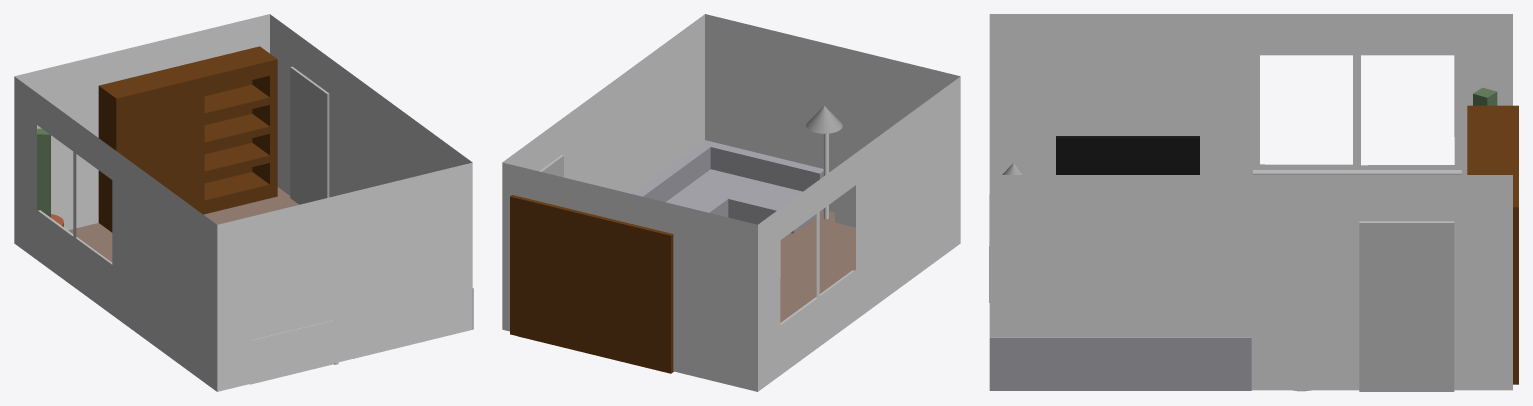
File: test_room_layout (1).fbx
The picture shows the model from 3 angles, left to right: view 1: azimuth 30°, elevation 25°; view 2: azimuth 150°, elevation 25°; view 3: azimuth 270°, elevation 25°; orthographic projection. The views are drawn at different scales.
Parts seen in each view (by area): view 1: Main, Cube.007, Cube, Cube.009, Cube.008, Cube.004; view 2: Main, Cube.007, Cube.003, Cube.008, Cube.009, Cone; view 3: Main, Cube, Cube.003, Cube.002, Cube.007, Cube.008, Cube.005.
Part boxes in pixels (x1,y1,x2,y2): Main: [14, 14, 472, 391]; Cube.007: [98, 48, 269, 232]; Cube: [290, 66, 329, 204]; Cube.009: [250, 320, 332, 384]; Cube.008: [252, 46, 277, 198]; Cube.004: [37, 128, 50, 217]; Main: [502, 14, 960, 391]; Cube.007: [517, 197, 673, 373]; Cube.003: [632, 140, 823, 233]; Cube.008: [510, 195, 519, 335]; Cube.009: [835, 185, 855, 227]; Cone: [806, 106, 842, 133]; Main: [989, 14, 1512, 390]; Cube: [1359, 221, 1454, 391]; Cube.003: [989, 337, 1251, 390]; Cube.002: [1056, 136, 1199, 174]; Cube.007: [1467, 105, 1518, 202]; Cube.008: [1513, 202, 1518, 384]; Cube.005: [1253, 170, 1461, 174].
Bounding box in the file's own units: 808 × 538 × 1114.
